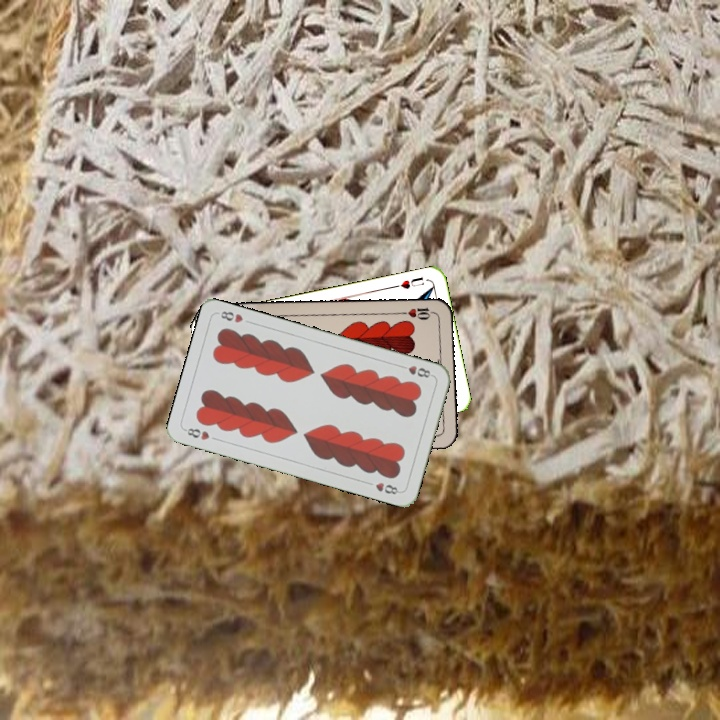H10: (397, 303, 438, 322)
H8: (396, 361, 435, 380), (181, 424, 212, 443)
HU: (390, 273, 427, 291)
